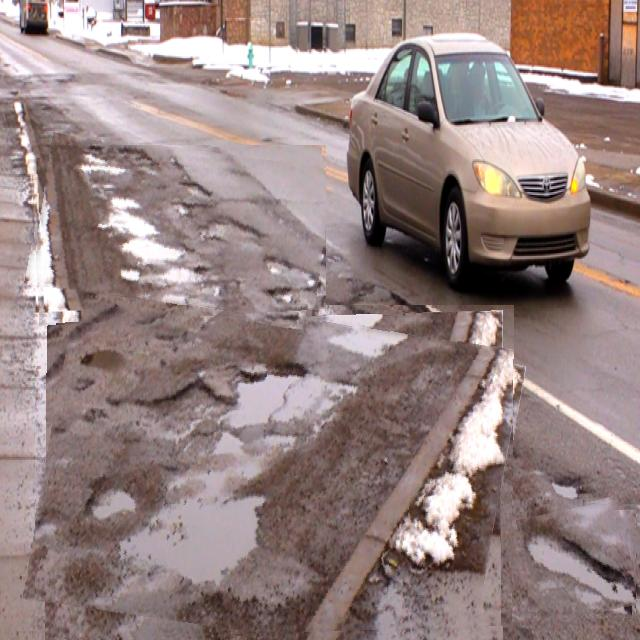Pothole: (35, 305, 514, 640), (30, 145, 326, 326), (522, 500, 636, 618)
